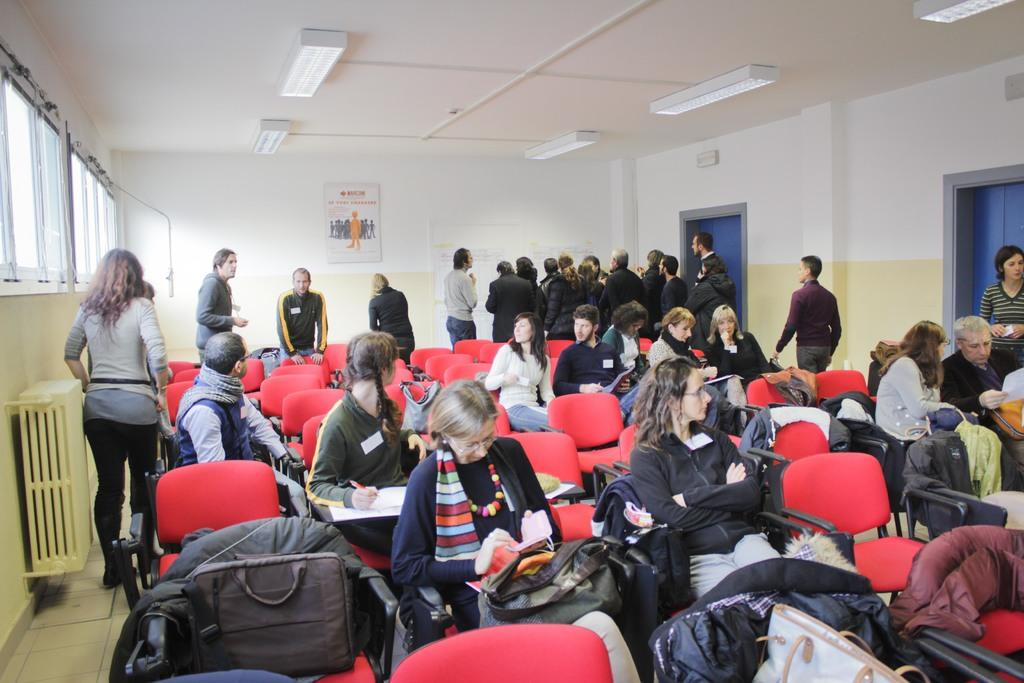Luggage-and-bags: (648, 556, 922, 682), (189, 552, 359, 671), (749, 600, 933, 682), (472, 541, 627, 633), (908, 406, 974, 446), (402, 381, 447, 432), (990, 396, 1023, 442), (869, 341, 905, 366), (865, 356, 883, 403), (768, 353, 783, 370)
